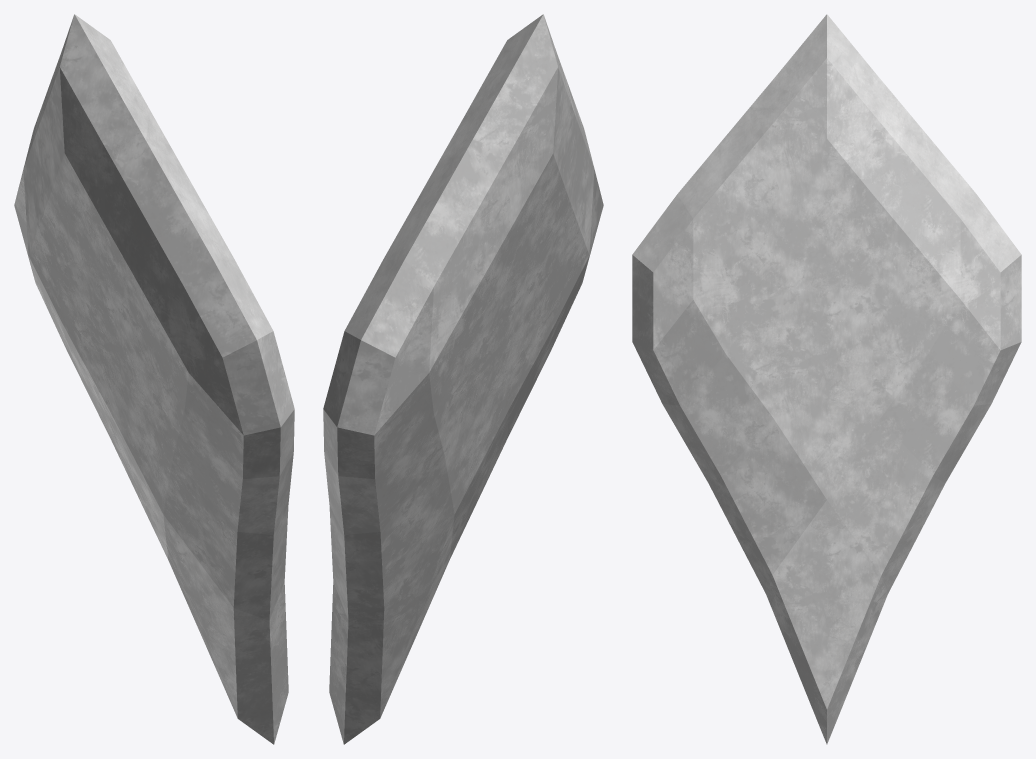
The model's file is Cover.fbx.
3 views of the same model, side by side, from view 1: azimuth 30°, elevation 25°; view 2: azimuth 150°, elevation 25°; view 3: azimuth 270°, elevation 25° (orthographic). The views are drawn at different scales.
Parts seen in each view (by area): view 1: Cover; view 2: Cover; view 3: Cover.
Boxes of the visible parts, left/top/right/bottom form: Cover: left=14, top=14, right=294, bottom=744; Cover: left=323, top=14, right=603, bottom=744; Cover: left=632, top=14, right=1021, bottom=744.
Bounding box in the file's own units: 31.6 × 103 × 55.81.
